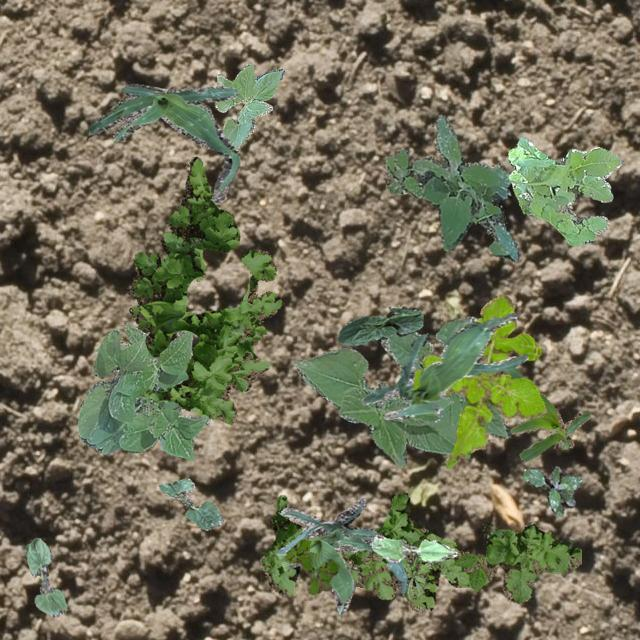crop: (292, 316, 509, 466), (76, 322, 210, 459), (360, 312, 528, 421), (86, 82, 238, 202), (274, 497, 406, 612), (502, 366, 590, 460), (214, 62, 284, 152), (24, 536, 66, 616), (158, 478, 222, 530), (336, 306, 422, 344), (371, 534, 456, 562)
weed: (127, 156, 280, 424), (258, 492, 580, 612), (412, 292, 546, 468), (384, 114, 520, 260), (508, 136, 622, 246), (284, 538, 338, 594), (522, 466, 580, 514), (400, 554, 430, 598)
